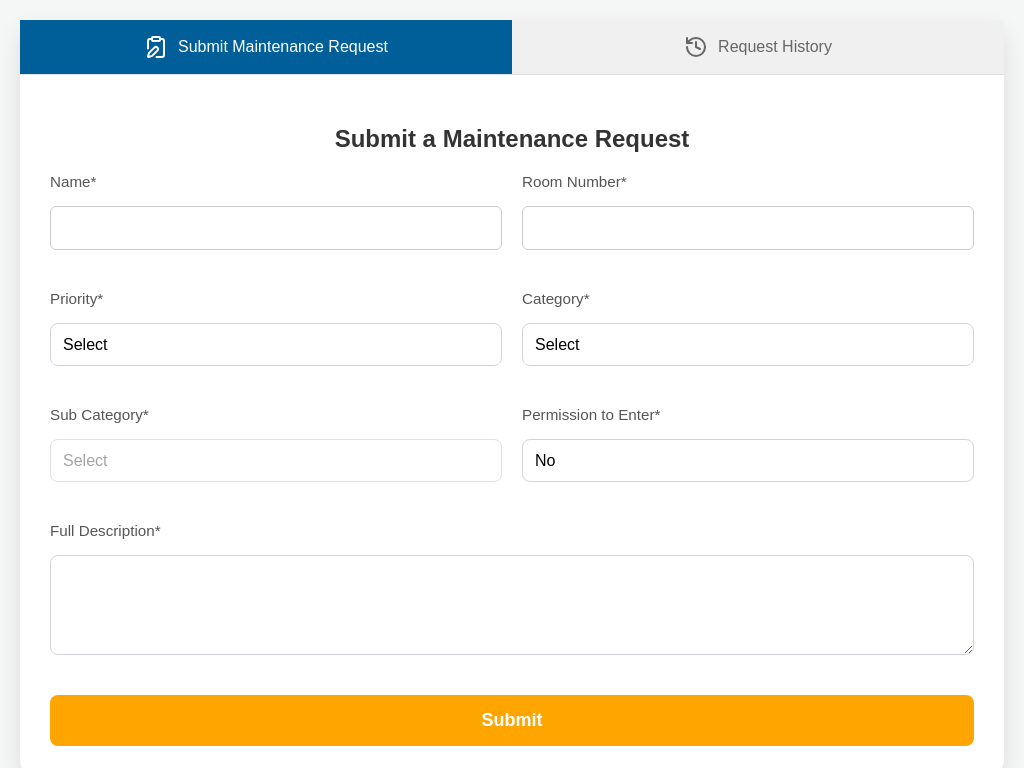
Test: Maintenance Component › renders request history when button is clicked
Step 1. Click the button "Request History" → coordinates (758, 47), box [512,20,1004,74]
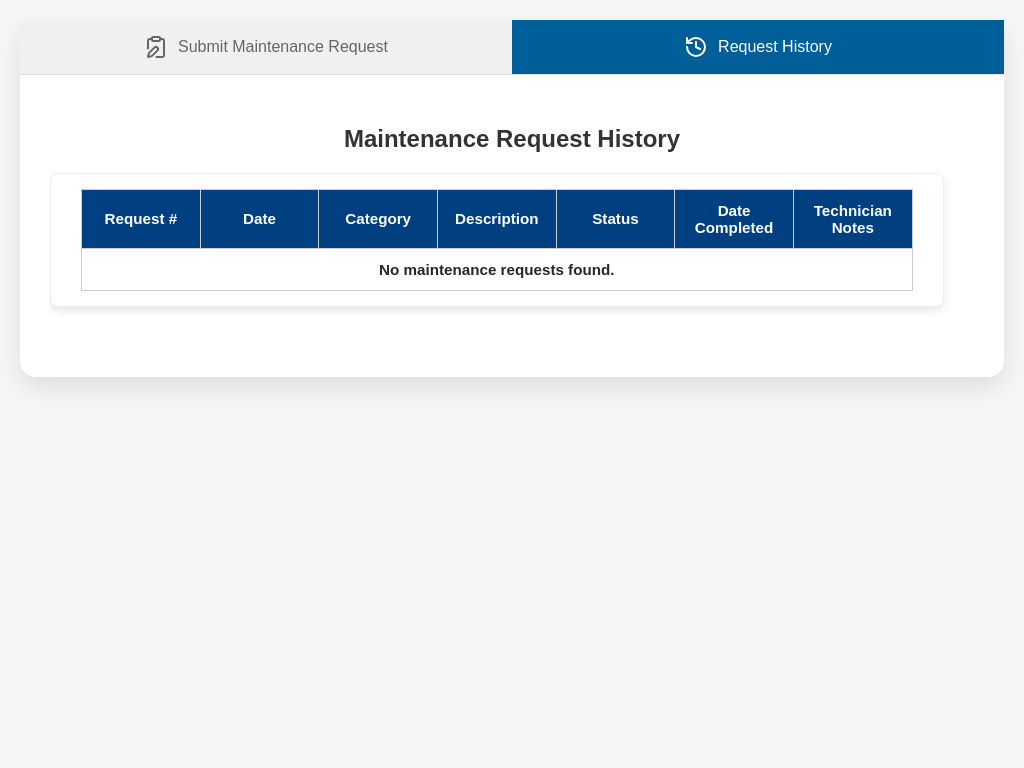
Check: the heading "Maintenance Request History" is shown, box [344,125,680,152]
